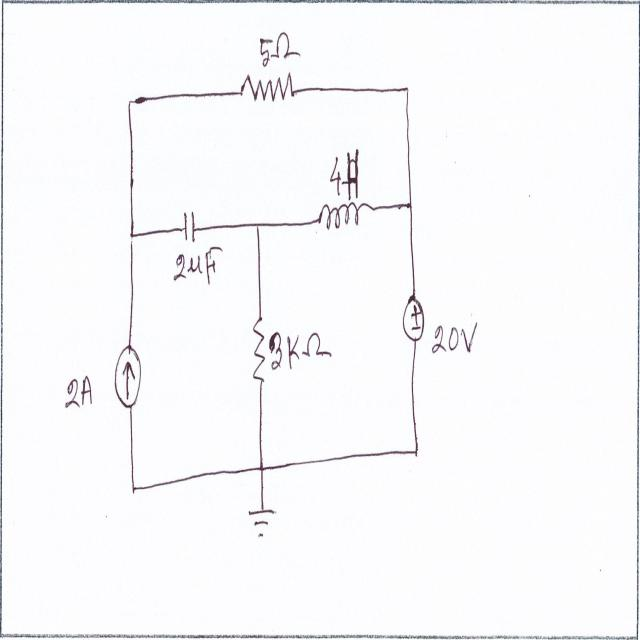capacitor: (180, 195, 200, 252)
current_source: (112, 336, 143, 412)
ground: (246, 501, 278, 542)
inductor: (314, 196, 370, 237)
resistor: (237, 65, 297, 114), (250, 309, 268, 402)
voltage_source: (400, 289, 426, 351)
